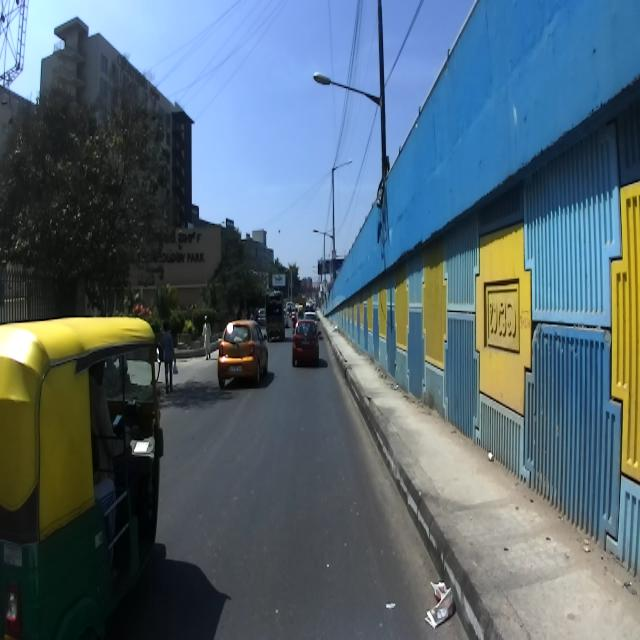auto ahead at: (0, 305, 171, 634)
car ahead at: (215, 314, 272, 404), (288, 315, 322, 374)
